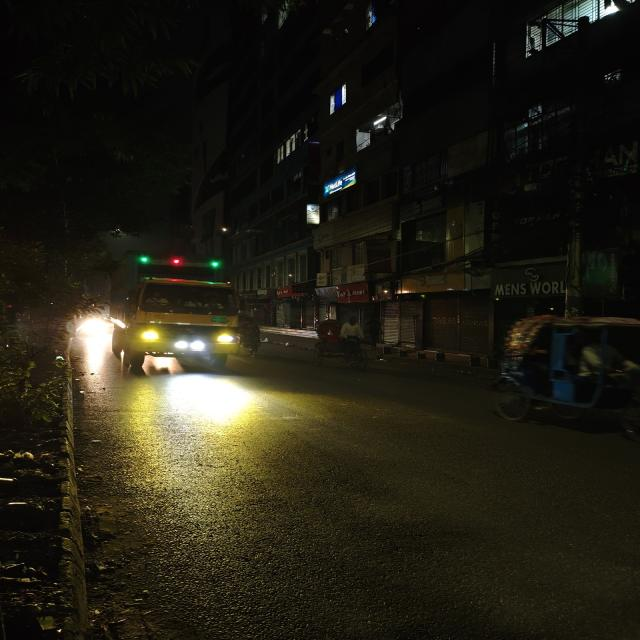rickshaw: (482, 305, 640, 439), (297, 309, 373, 372)
truck: (90, 250, 246, 379)
